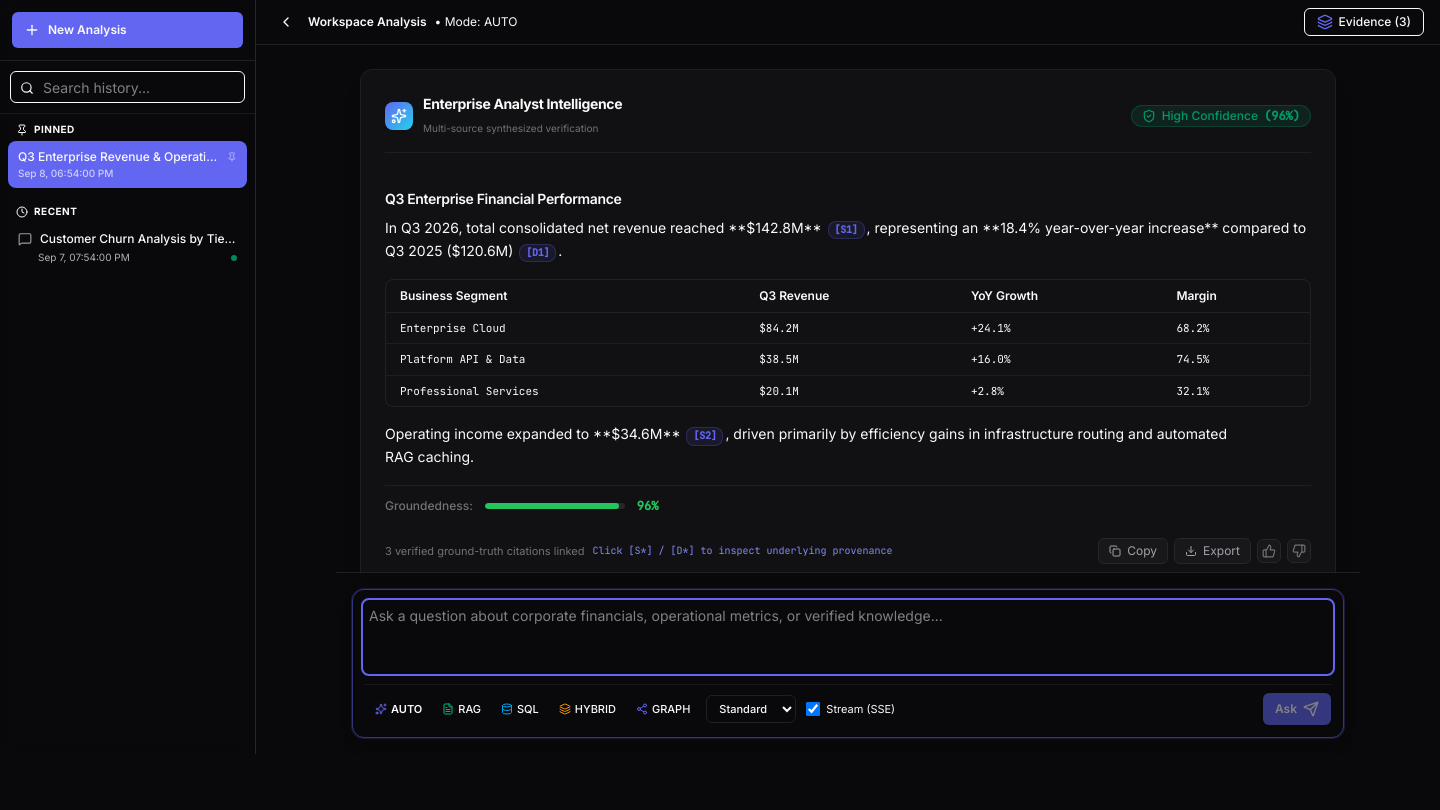
Analyst Workspace Integration Flow › handles ask submission and updates answer with citations
Replace the text in the text box with placeholder "Ask a question about corporate financials" with "What is the ARR?" at x=848, y=637, box [365,602,1331,672]
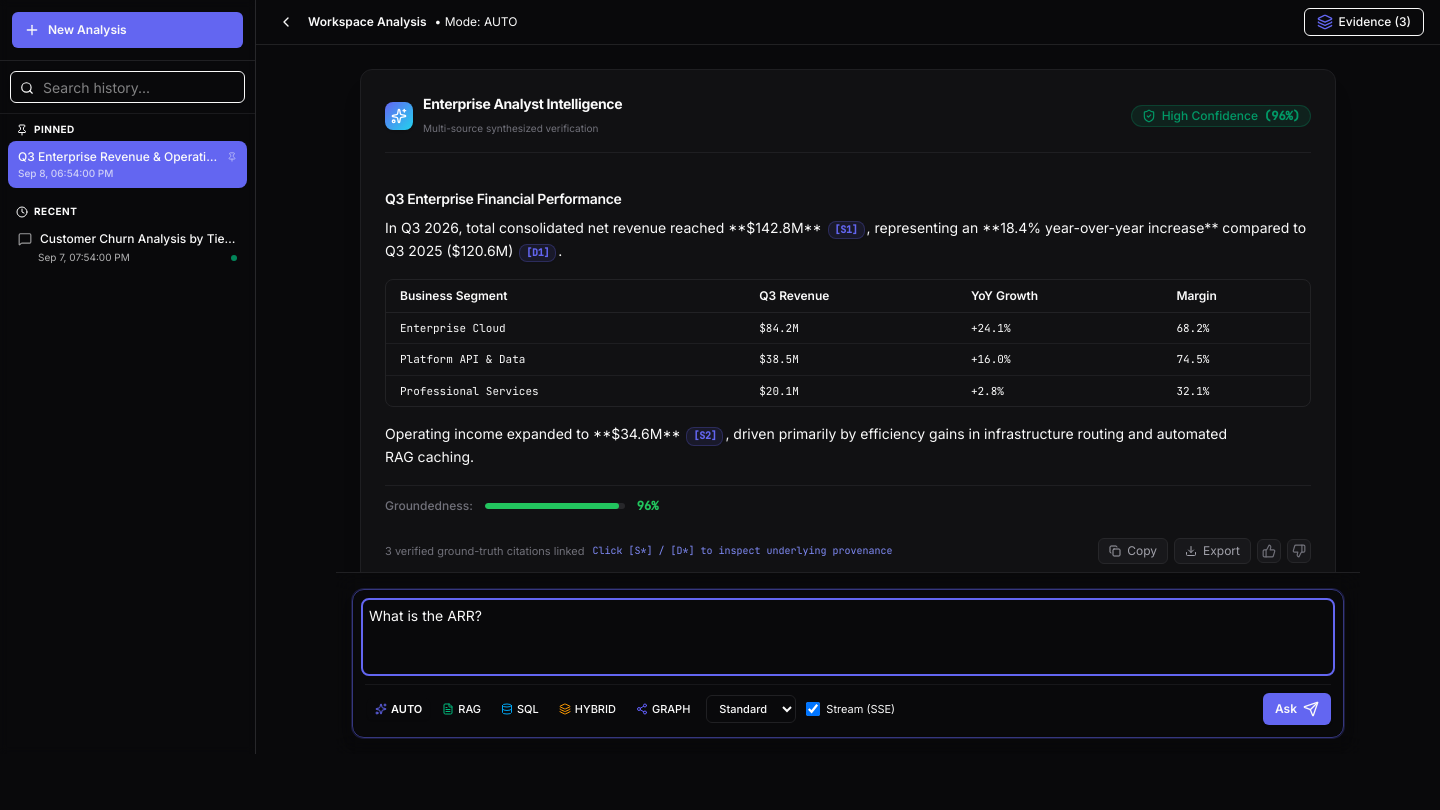
Click the button "Ask" at x=1297, y=709, box [1263,693,1331,725]
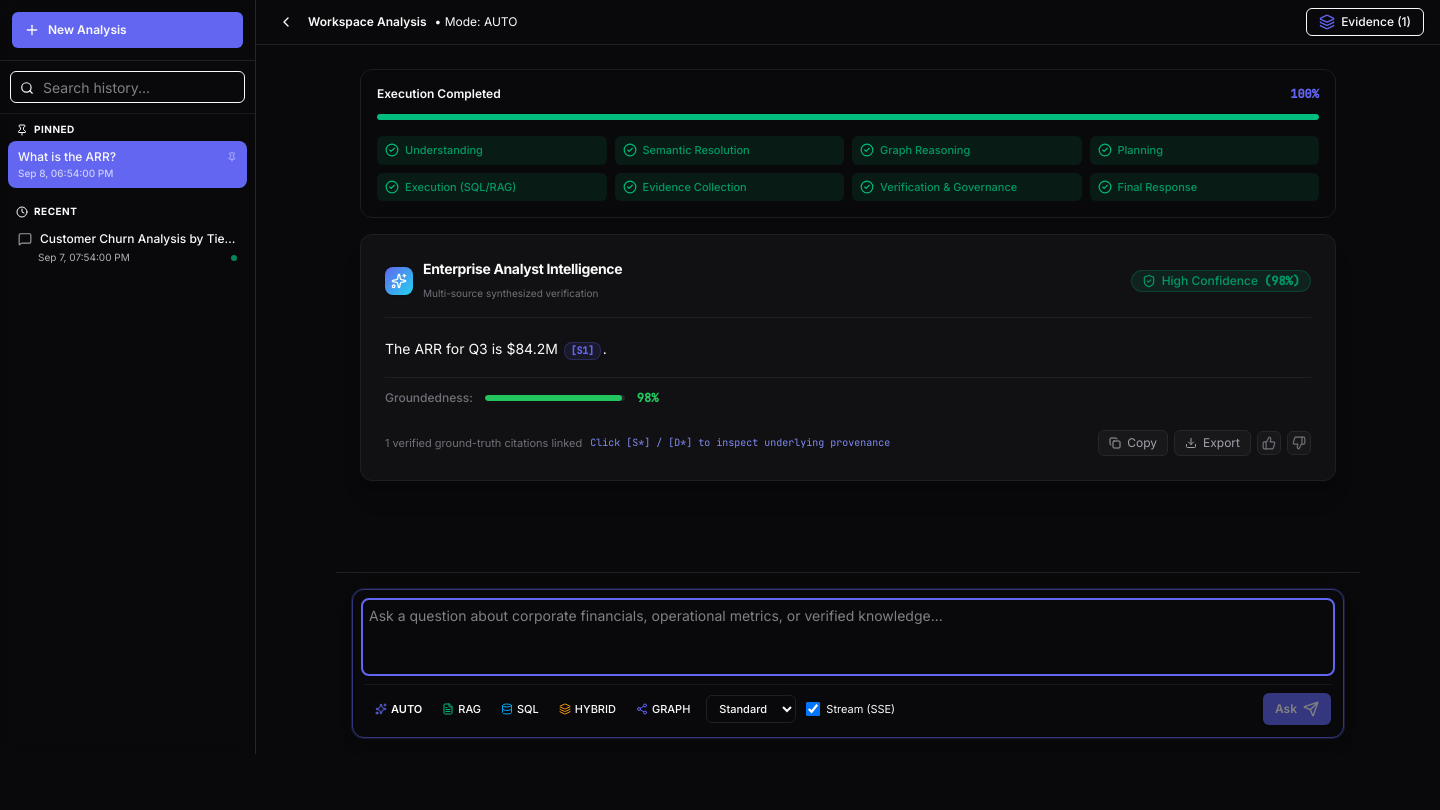
Expected: the button named "Citation [S1]" is shown, [564,342,601,360]
Expected: the text "The ARR for Q3 is $84.2M" is shown, [385,340,562,357]
